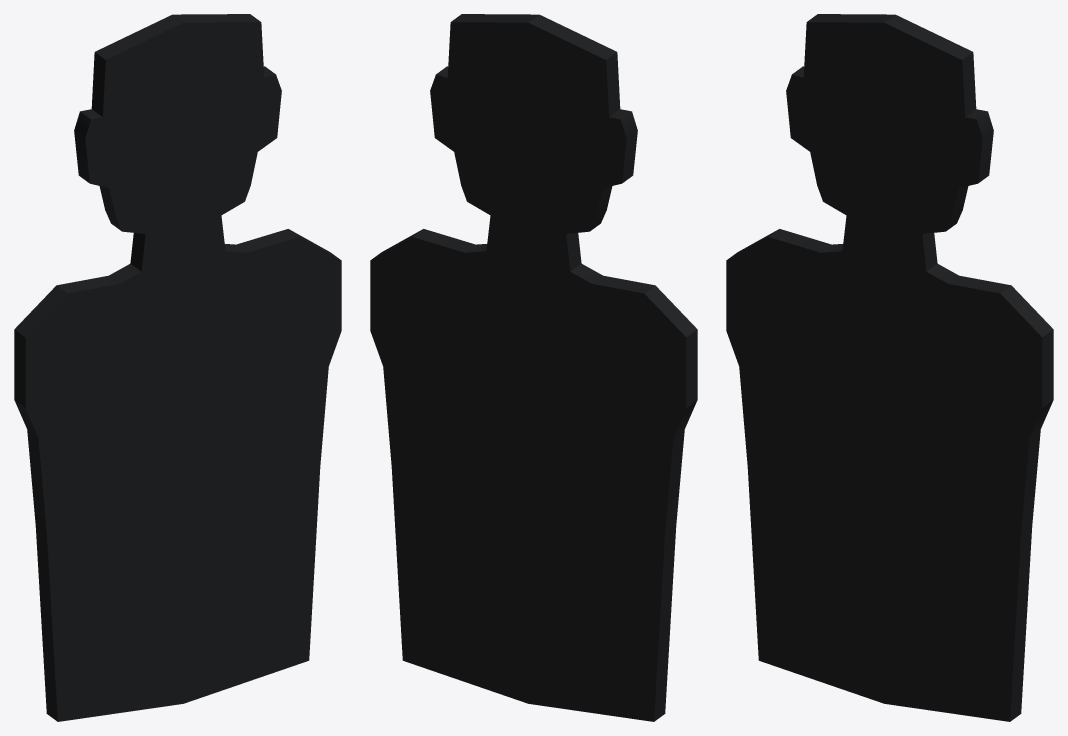
Rendered from SM_Prop_Target_02.fbx.
3 views of the same model, side by side, from view 1: azimuth 30°, elevation 25°; view 2: azimuth 150°, elevation 25°; view 3: azimuth 330°, elevation 25° (orthographic).
Visible parts, largest first — view 1: SM_Prop_Target_02; view 2: SM_Prop_Target_02; view 3: SM_Prop_Target_02.
Boxes of the visible parts, x1,y1,x2,y2 form: SM_Prop_Target_02: (14,14,341,721); SM_Prop_Target_02: (370,14,697,721); SM_Prop_Target_02: (726,14,1053,721).
Bounding box in the file's own units: 52.33 × 108 × 3.2.
